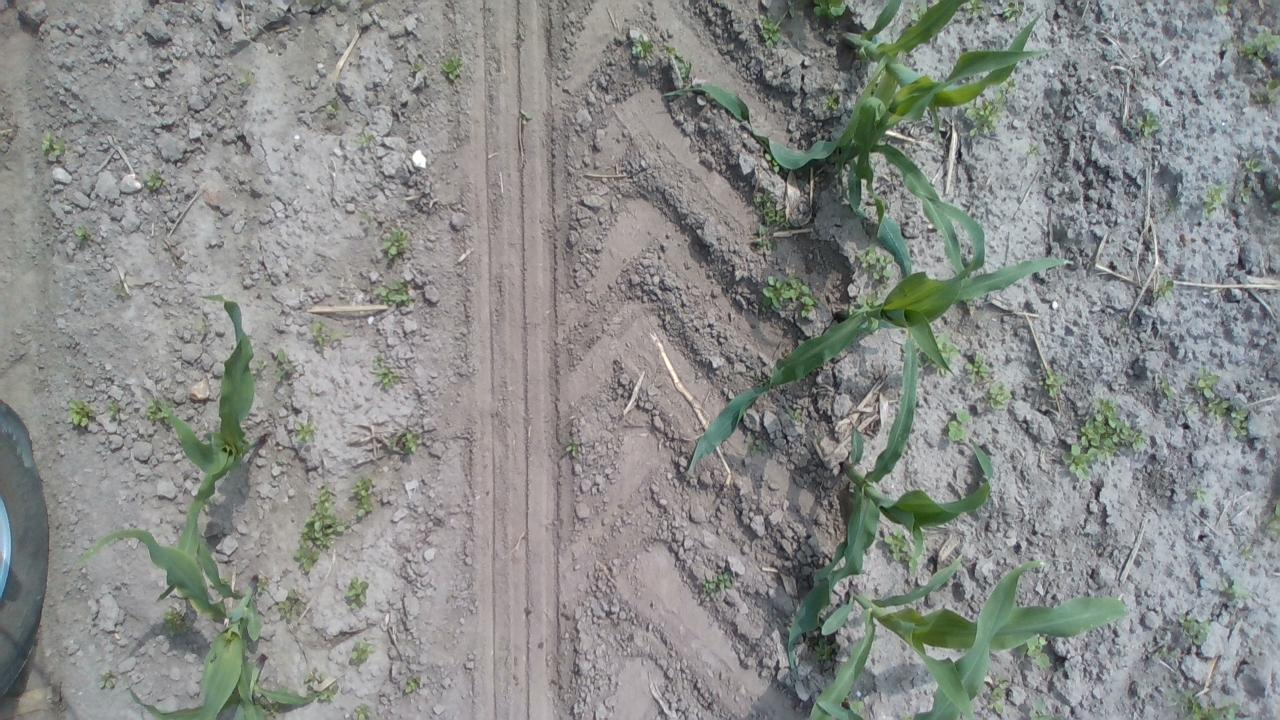Maize: (686, 176, 1074, 470), (784, 333, 998, 678), (660, 0, 1046, 169), (806, 44, 1048, 287), (806, 550, 1132, 720), (814, 558, 1045, 720), (154, 290, 268, 604), (76, 526, 260, 720), (128, 652, 322, 720)
Weeds: (1061, 398, 1149, 482), (294, 482, 350, 573), (1184, 368, 1250, 439), (760, 272, 818, 320), (752, 190, 794, 251), (881, 525, 920, 578), (1176, 688, 1240, 720), (964, 94, 1007, 136), (852, 248, 896, 280), (1014, 633, 1054, 668), (662, 40, 696, 81), (368, 350, 401, 391), (1238, 30, 1279, 61), (302, 669, 338, 702), (1178, 611, 1210, 646), (753, 12, 784, 48), (352, 475, 375, 519), (372, 278, 408, 306), (160, 604, 190, 637), (845, 292, 885, 316), (982, 380, 1012, 411), (380, 431, 417, 456), (988, 672, 1009, 716), (964, 348, 989, 384), (146, 399, 177, 428), (1038, 366, 1066, 398), (310, 320, 344, 346), (946, 408, 972, 442), (1202, 184, 1228, 218), (934, 332, 963, 362), (66, 399, 97, 427), (382, 228, 409, 260), (278, 590, 306, 620), (39, 132, 66, 162), (344, 576, 369, 608), (700, 570, 733, 594), (1216, 577, 1250, 600), (1135, 110, 1162, 138), (630, 31, 654, 62), (1252, 80, 1280, 106), (350, 640, 376, 667), (290, 421, 318, 446), (812, 0, 846, 20), (439, 53, 464, 79), (1263, 500, 1280, 538), (1028, 698, 1056, 720), (1150, 276, 1174, 301), (813, 637, 836, 662), (142, 168, 162, 194), (274, 348, 290, 380), (1238, 181, 1256, 209), (751, 432, 770, 458), (1000, 3, 1024, 22), (963, 0, 987, 18), (820, 92, 840, 112), (1158, 378, 1176, 399), (1242, 157, 1264, 174), (927, 126, 946, 145), (998, 77, 1017, 96), (910, 4, 928, 23), (350, 129, 370, 146), (352, 702, 370, 720), (98, 670, 116, 688), (914, 348, 930, 368), (764, 153, 780, 173), (72, 225, 91, 241), (238, 69, 256, 85), (1191, 486, 1208, 502), (106, 399, 120, 418), (1211, 0, 1230, 14), (931, 363, 948, 378), (1240, 544, 1254, 562), (785, 408, 803, 422), (566, 438, 578, 458), (255, 576, 268, 594), (749, 372, 768, 384), (403, 678, 418, 693), (1026, 143, 1042, 157), (518, 108, 534, 120), (787, 0, 797, 19), (407, 62, 424, 72), (218, 574, 232, 586), (1269, 200, 1280, 213), (798, 176, 809, 188), (205, 495, 218, 505), (324, 103, 336, 113), (1166, 199, 1175, 212), (359, 210, 370, 220), (255, 358, 265, 368), (1160, 647, 1170, 657), (903, 713, 913, 720), (1120, 320, 1128, 328)
